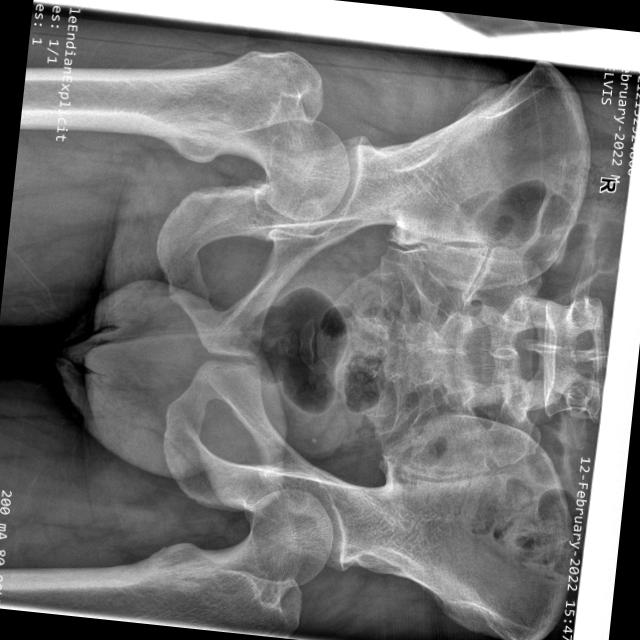normal-left: (0, 487, 332, 638)
normal-right: (19, 50, 349, 220)
